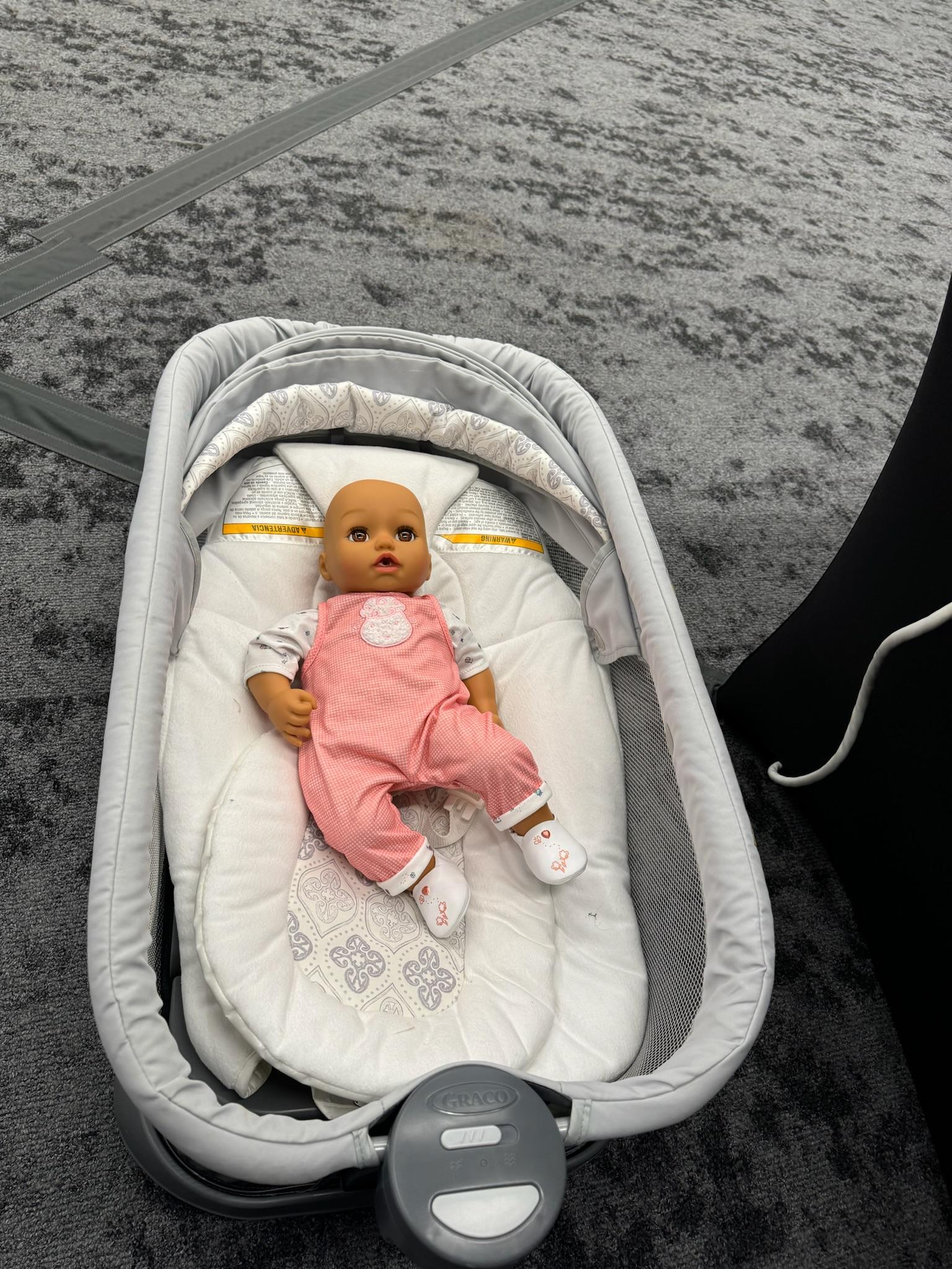baby: (244, 475, 586, 918)
